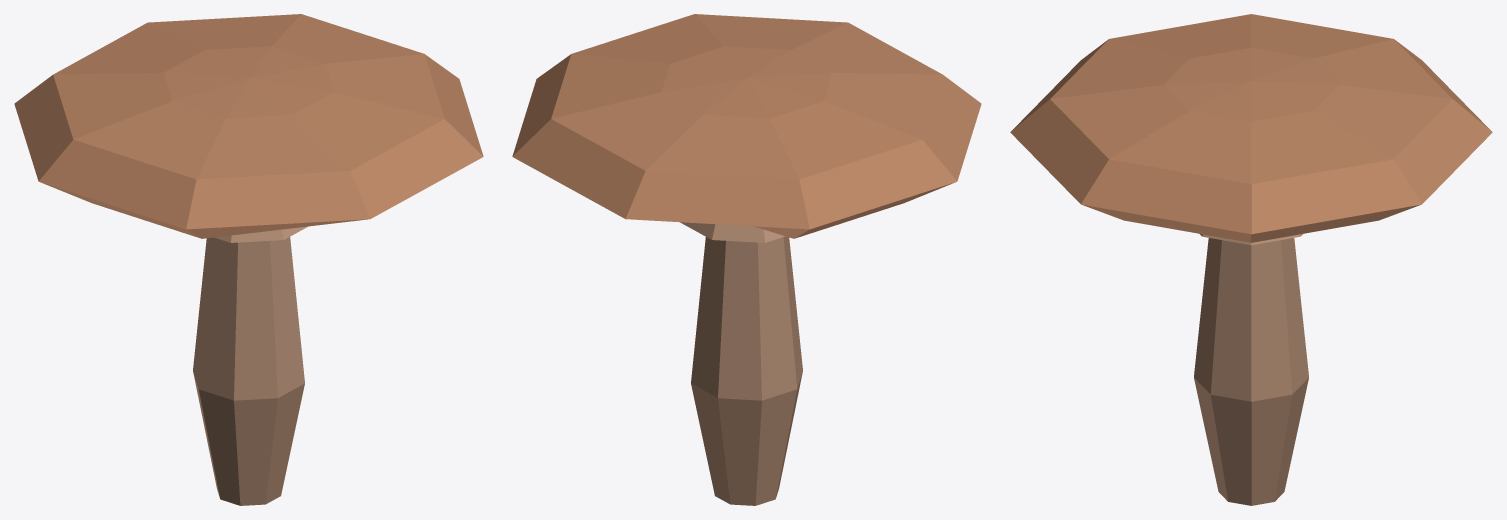
File: Mushroom_09.fbx
The picture shows the model from 3 angles, left to right: view 1: azimuth 30°, elevation 25°; view 2: azimuth 150°, elevation 25°; view 3: azimuth 270°, elevation 25°; orthographic projection.
Visible parts, largest first — view 1: Mushroom_09; view 2: Mushroom_09; view 3: Mushroom_09.
Boxes of the visible parts, x1,y1,x2,y2 form: Mushroom_09: (14,14,483,505); Mushroom_09: (512,14,981,505); Mushroom_09: (1010,14,1492,505).
Bounding box in the file's own units: 59.22 × 55.66 × 59.22.
